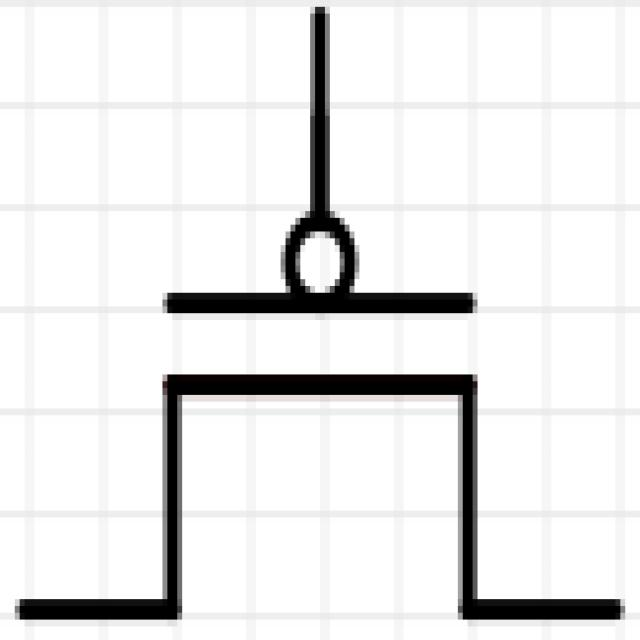pmos: (26, 100, 640, 640)
